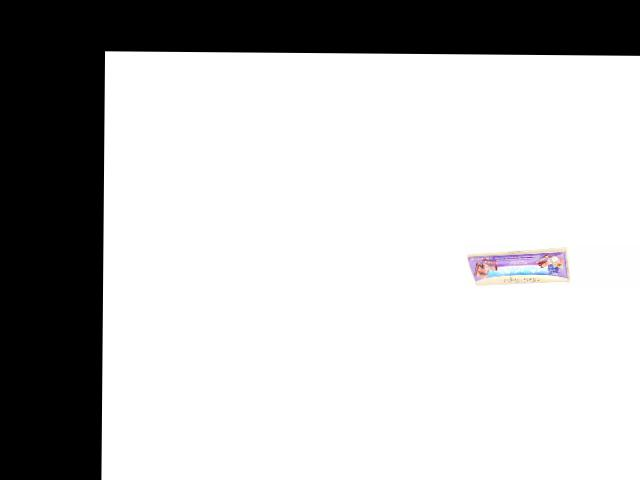chocolate: (462, 246, 570, 282)
